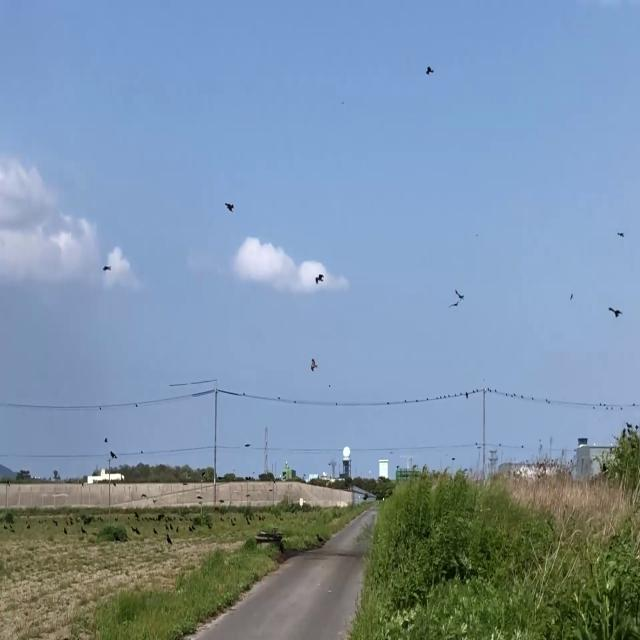bird: (452, 286, 464, 311), (609, 300, 622, 322), (225, 194, 234, 217), (316, 266, 323, 288), (426, 60, 433, 81), (104, 258, 110, 277), (166, 528, 171, 548), (64, 522, 67, 537)
